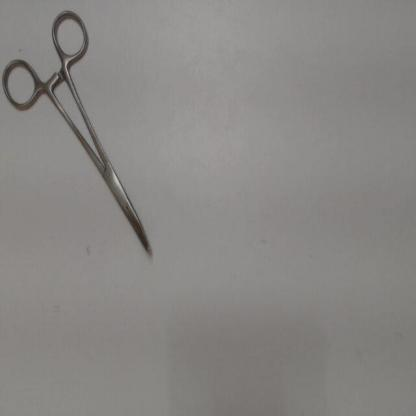Crile Artery Forceps: (1, 3, 159, 261)
